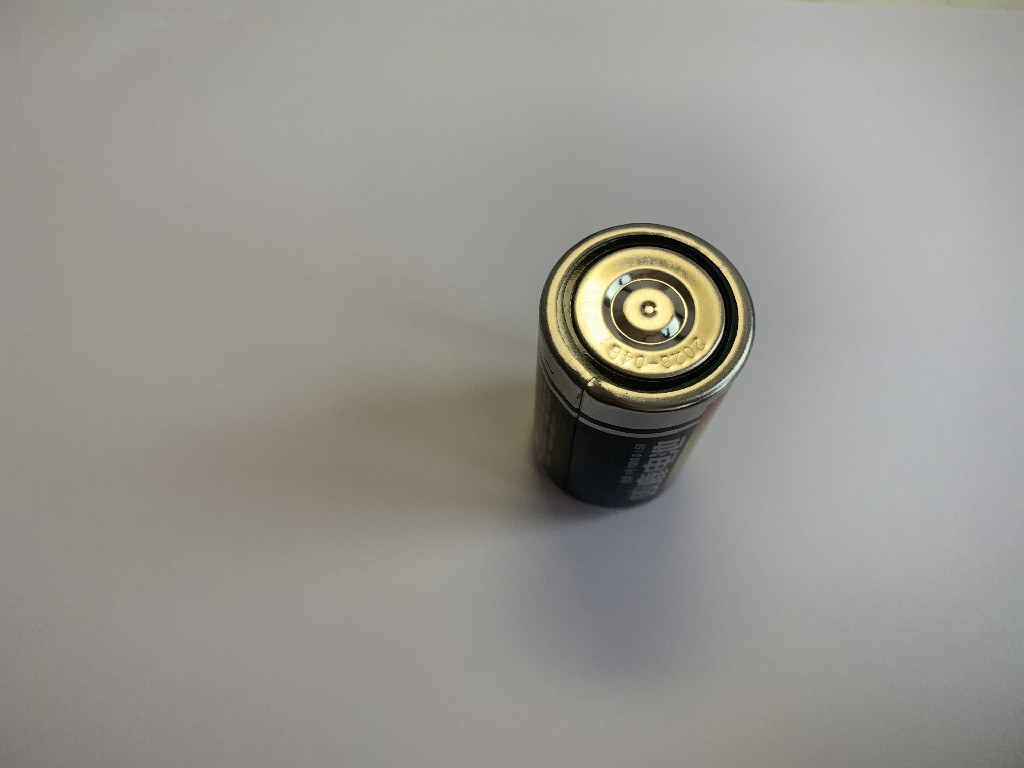charge: (525, 217, 761, 511)
